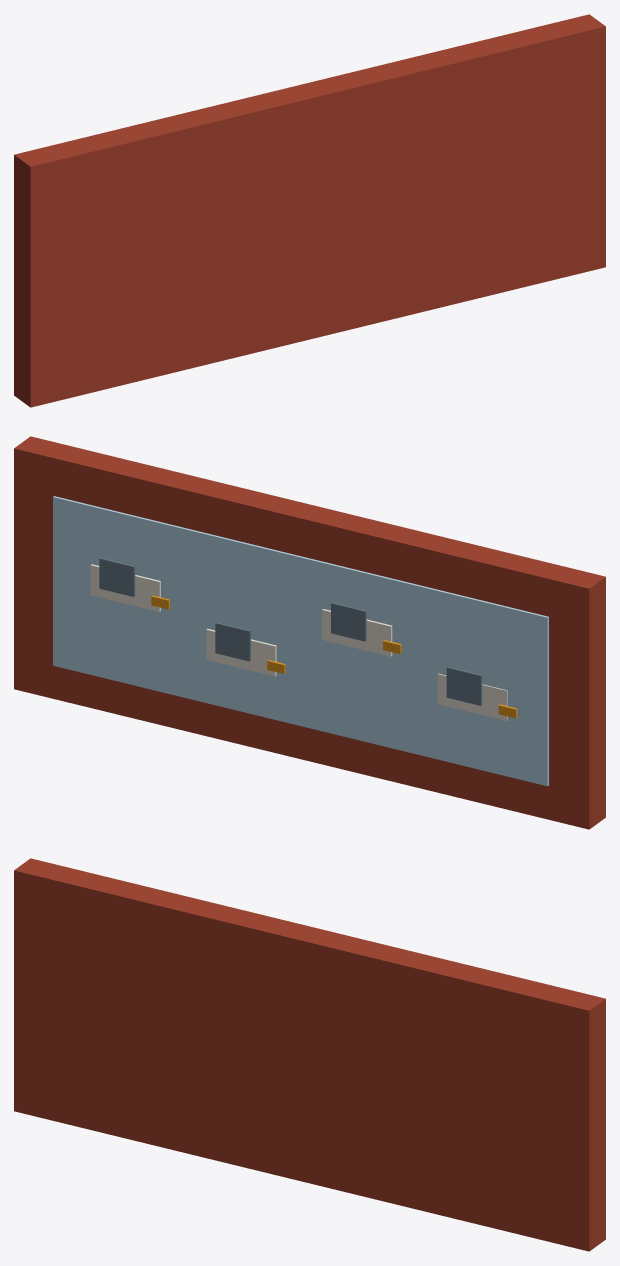
File: sn_ducks.glb
3 views of the same model, one above another, from view 1: azimuth 30°, elevation 25°; view 2: azimuth 150°, elevation 25°; view 3: azimuth 330°, elevation 25° (orthographic).
Visible parts, largest first — view 1: sn_ducks_lod0; view 2: sn_ducks_lod0; view 3: sn_ducks_lod0.
Boxes of the visible parts, x1,y1,x2,y2 form: sn_ducks_lod0: [14, 14, 605, 407]; sn_ducks_lod0: [14, 436, 605, 829]; sn_ducks_lod0: [14, 858, 605, 1251].
Size of what is drawn, in the model's own units: 10 by 4 by 0.7801.
